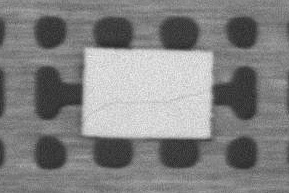DIE_CRACK: (89, 88, 206, 115)
